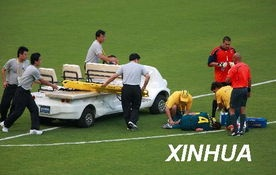falling: (162, 108, 221, 134)
